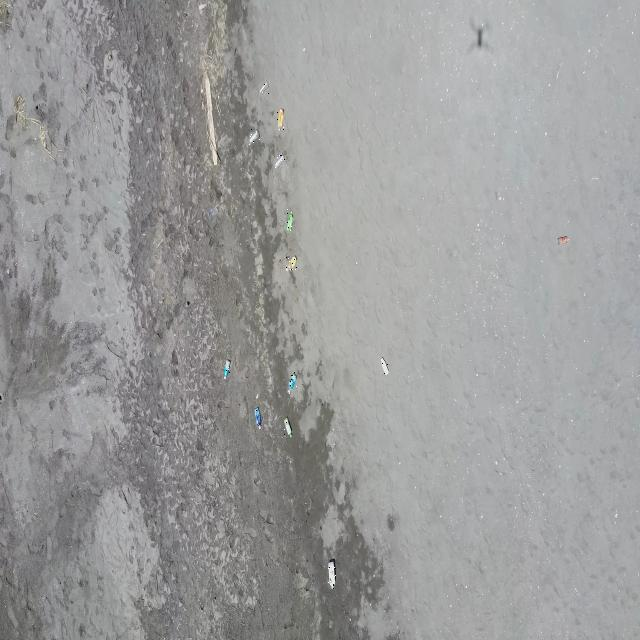plastic-bottle: (328, 560, 336, 588), (288, 372, 297, 394), (284, 417, 293, 438), (286, 255, 297, 272), (286, 208, 293, 230), (277, 109, 284, 131), (254, 407, 261, 429), (381, 357, 389, 376), (224, 359, 230, 380)
takeaway-cup: (249, 129, 260, 145), (275, 153, 285, 169), (260, 79, 269, 94)
